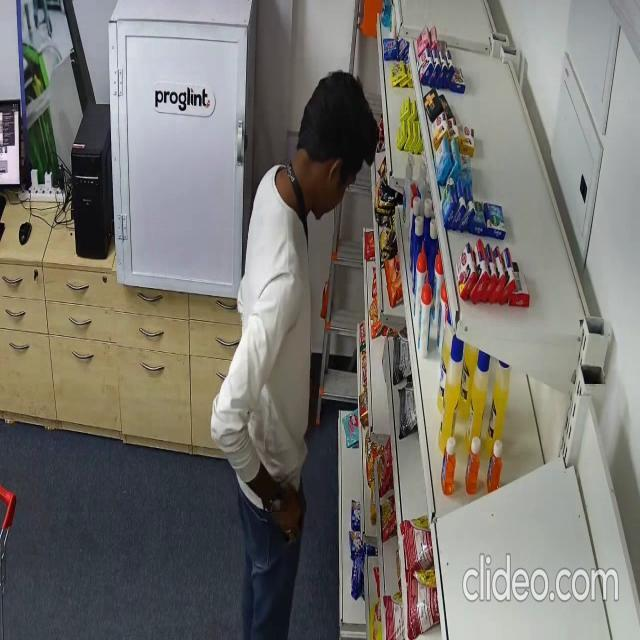Shoplifting: (208, 66, 379, 640)
